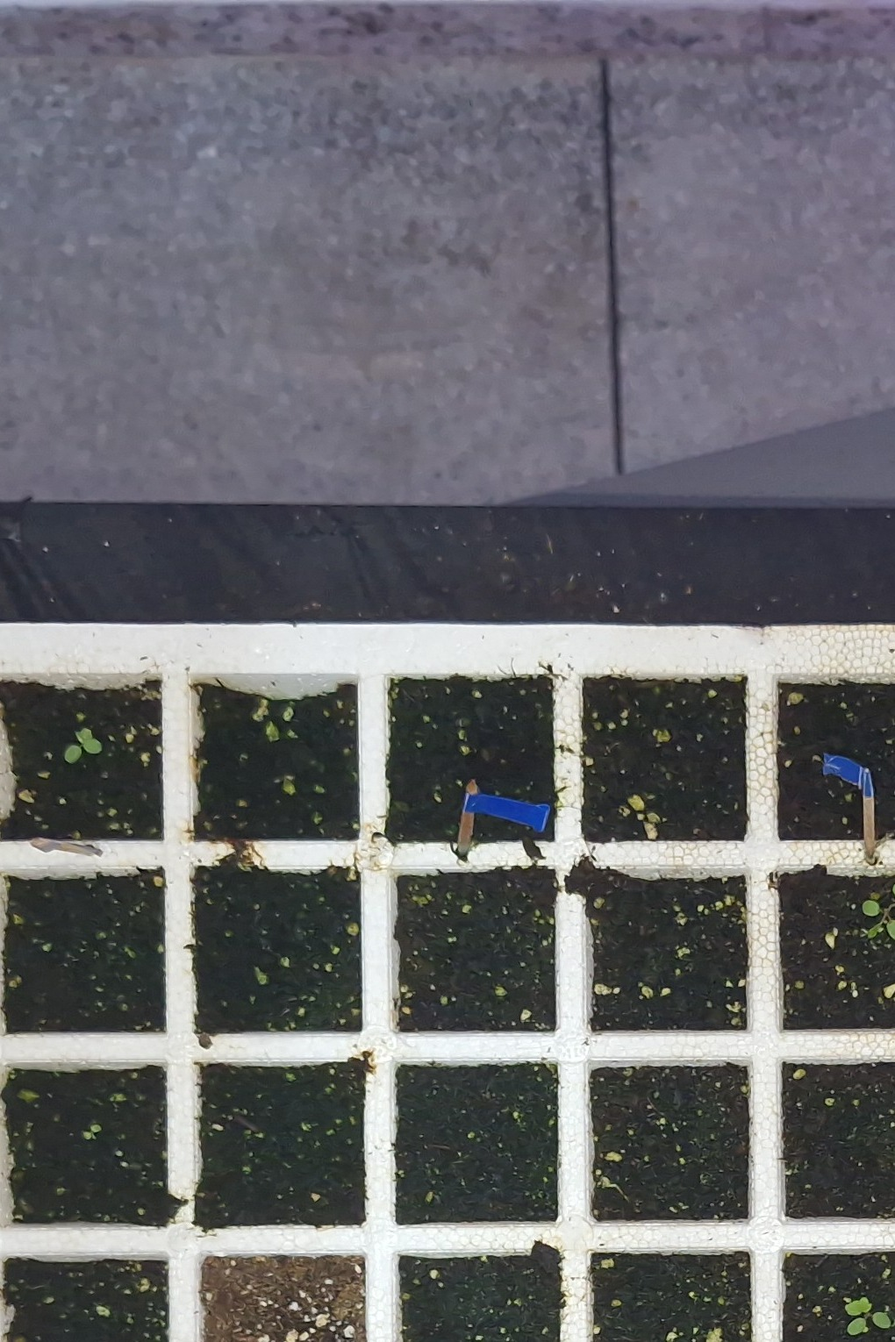Folha: (845, 1298, 872, 1316), (848, 1317, 866, 1335), (872, 1312, 891, 1328), (65, 746, 81, 763), (862, 900, 879, 916), (85, 740, 101, 752), (868, 924, 881, 938), (80, 728, 91, 741)
Germinacao: (863, 876, 895, 940), (845, 1297, 891, 1334), (64, 727, 103, 764), (84, 1125, 101, 1139)
